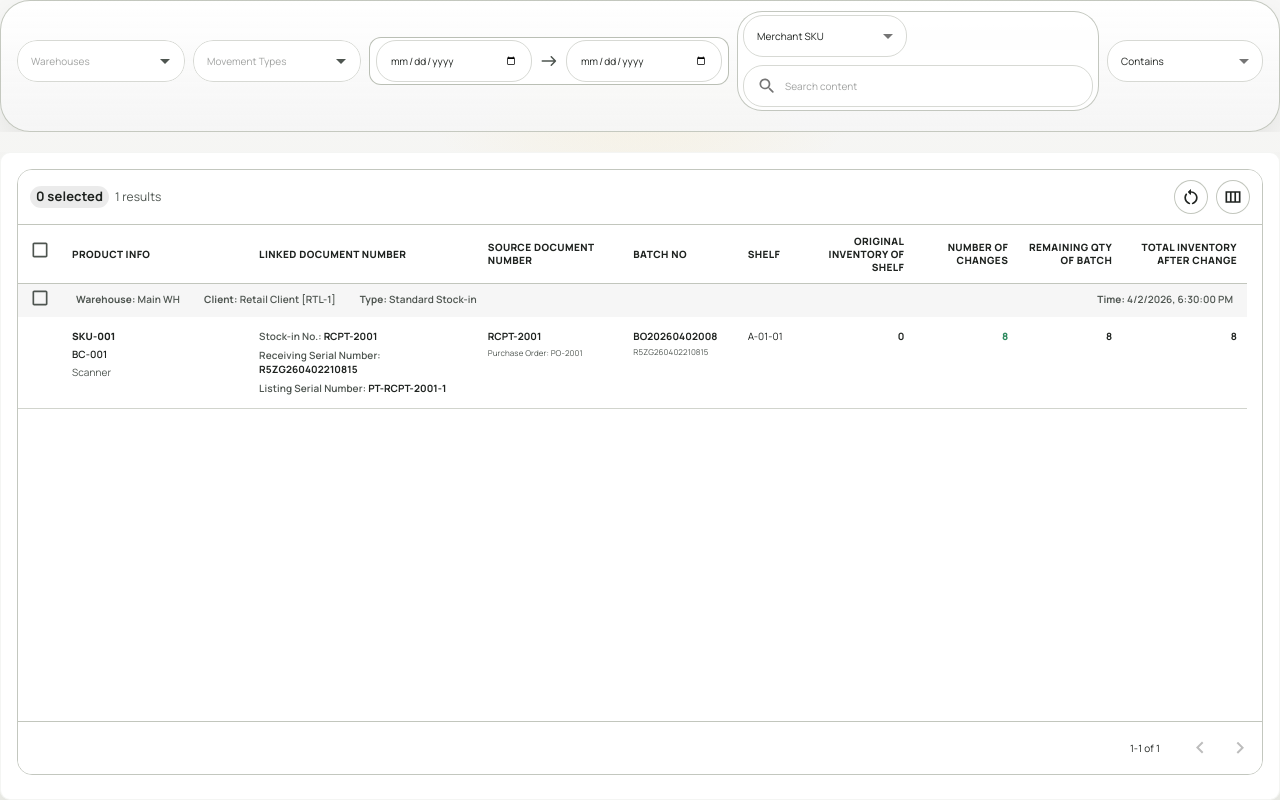
it: InventoryMovementsPage › renders selection and reset controls in the table toolbar instead of the filter card
expect the text "SKU-001" is shown: met, box left=72, top=330, right=116, bottom=344
expect the text "0 selected" is shown: met, box left=36, top=187, right=103, bottom=205
Click the checkbox next to "Warehouse" at (40, 298), box left=30, top=288, right=50, bottom=308
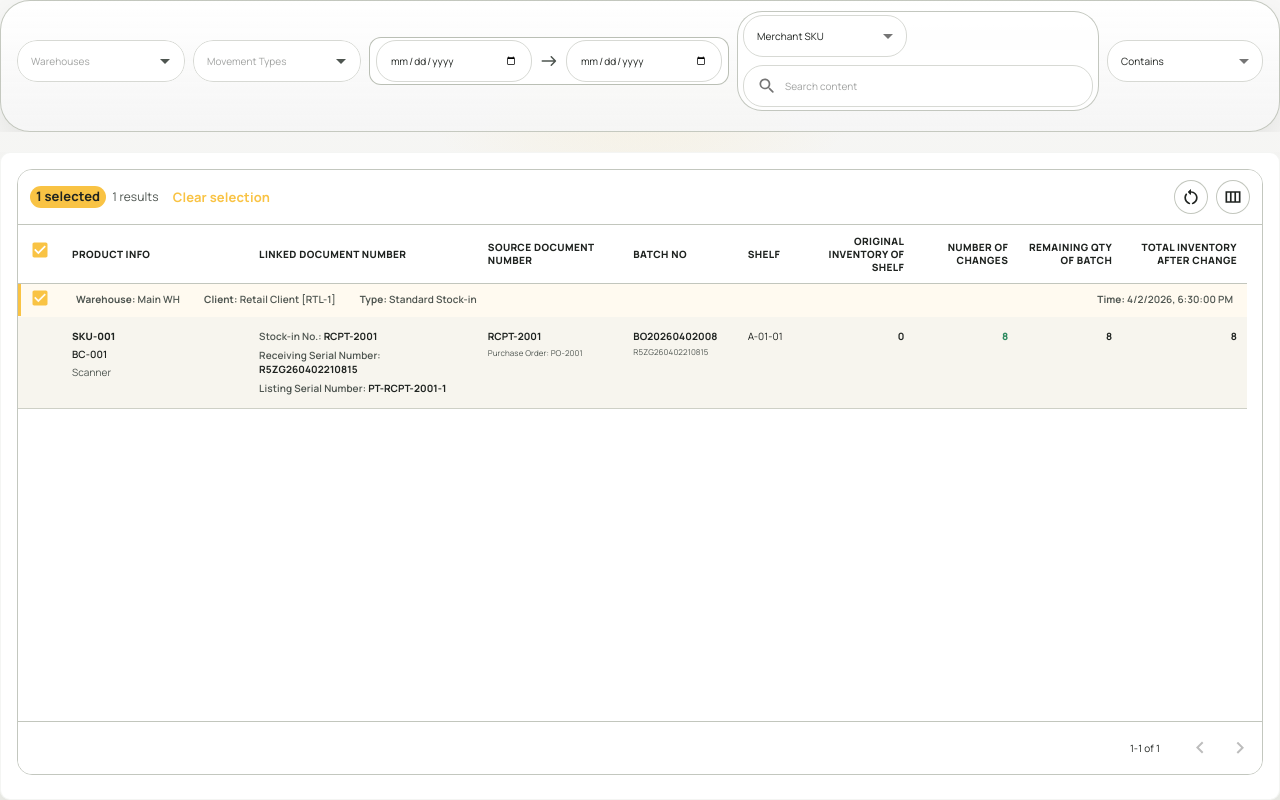
expect the text "1 selected" is shown: met, box left=36, top=187, right=100, bottom=205
expect the button "Clear selection" is shown: met, box left=165, top=182, right=278, bottom=212
